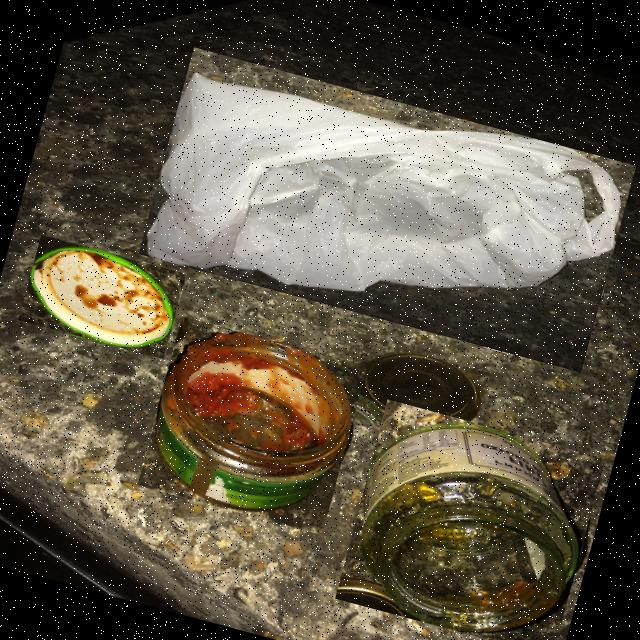Glass jar: (361, 423, 579, 632), (155, 334, 352, 513)
Metal lid: (30, 247, 174, 349), (353, 354, 481, 435)
Single-use carrier bag: (148, 75, 626, 293)
